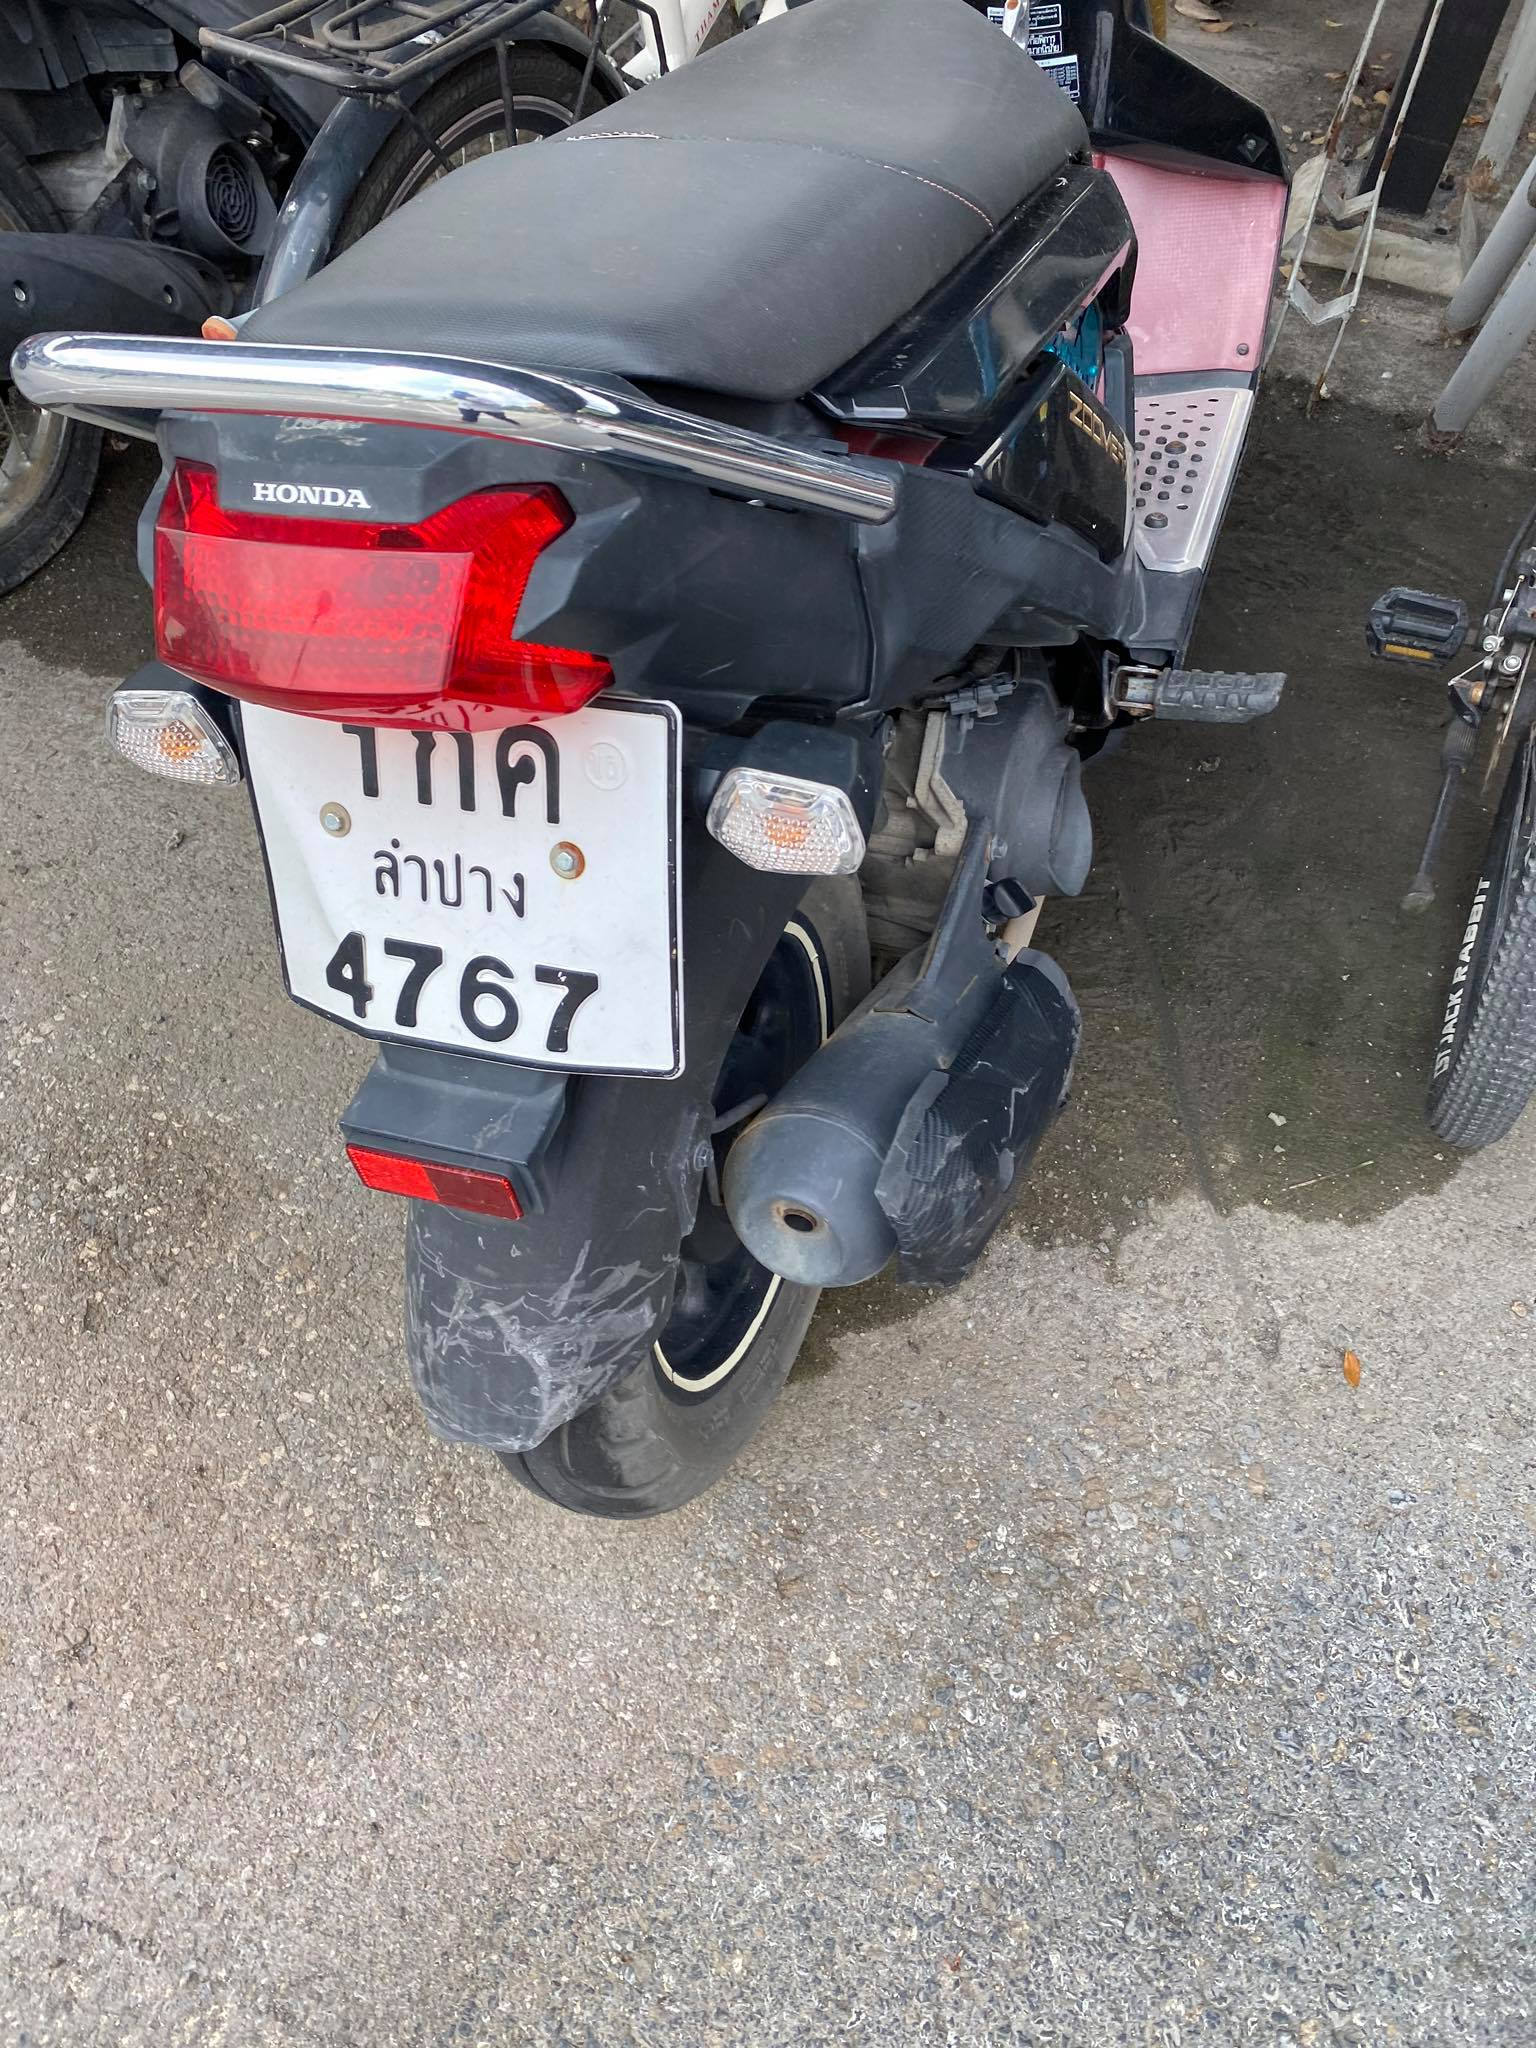line1: (329, 698, 570, 830)
line2: (363, 834, 541, 927)
line3: (307, 918, 620, 1051)
